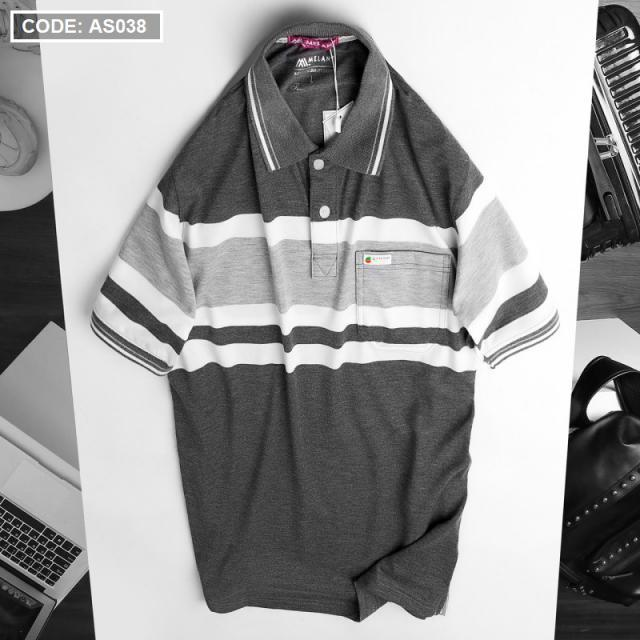Shirt: (86, 18, 568, 622)
